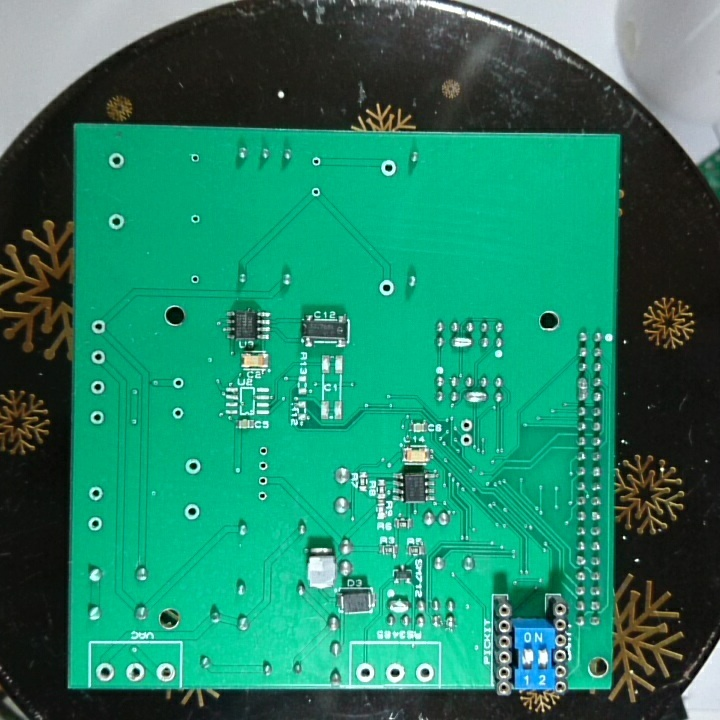F: (382, 660, 406, 683), (93, 660, 116, 683), (354, 660, 377, 683), (124, 661, 148, 683), (105, 150, 127, 172), (413, 662, 436, 683), (154, 662, 176, 683), (182, 501, 202, 524), (182, 456, 203, 477), (106, 212, 128, 232), (377, 278, 397, 299), (88, 377, 107, 398), (379, 158, 398, 178), (89, 318, 108, 338), (86, 483, 105, 503), (86, 513, 104, 533), (88, 409, 107, 427), (88, 348, 106, 366), (168, 406, 187, 423), (168, 375, 186, 390), (308, 184, 324, 200), (458, 432, 474, 448), (254, 474, 271, 489), (256, 458, 271, 474), (458, 418, 474, 433), (188, 272, 203, 287), (254, 489, 269, 504), (308, 155, 324, 169), (188, 150, 202, 166), (188, 212, 202, 227), (257, 443, 270, 458)
P: (386, 595, 411, 614), (574, 375, 590, 403), (464, 388, 488, 406), (448, 334, 473, 349)
